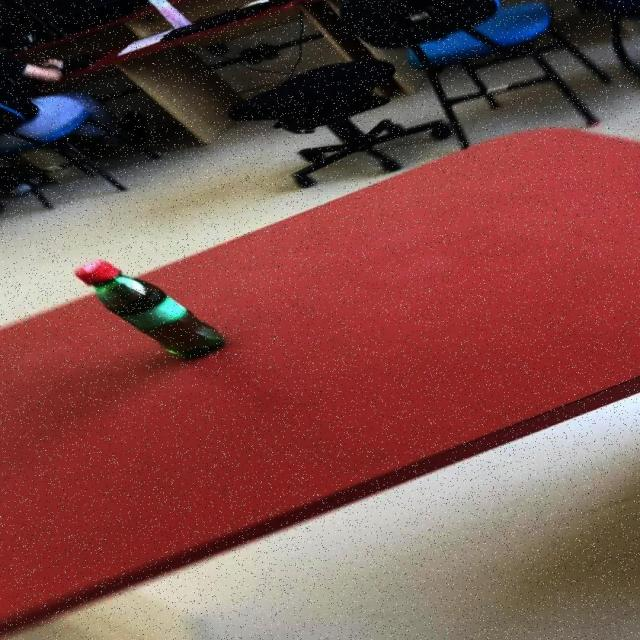Guarana: (72, 259, 226, 358)
